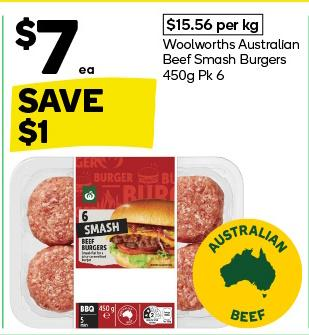description_block: (157, 37, 301, 85)
price_main: (6, 9, 106, 80)
product_image_block: (1, 155, 259, 330)
promo_text_block: (3, 82, 177, 153)
unit_price_block: (160, 12, 267, 38)
